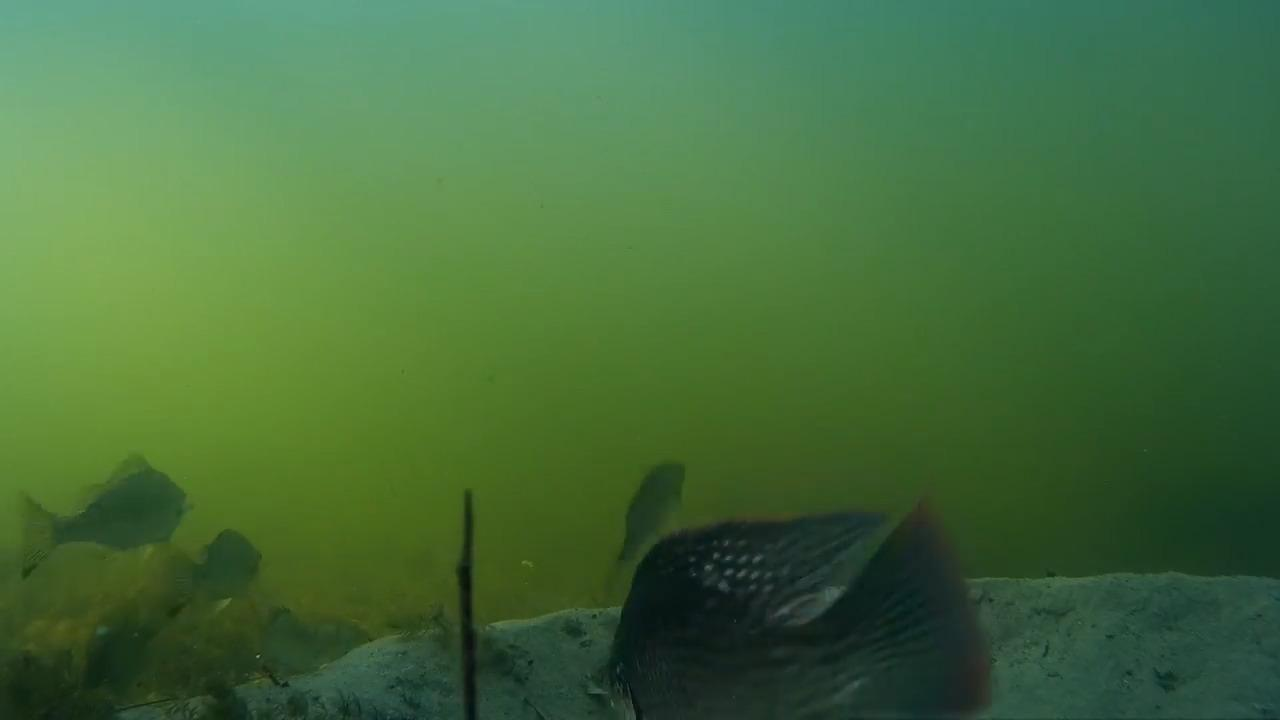Tilapia: (609, 488, 1002, 720), (7, 443, 224, 610), (593, 448, 696, 556), (262, 610, 385, 696), (162, 518, 275, 608)
